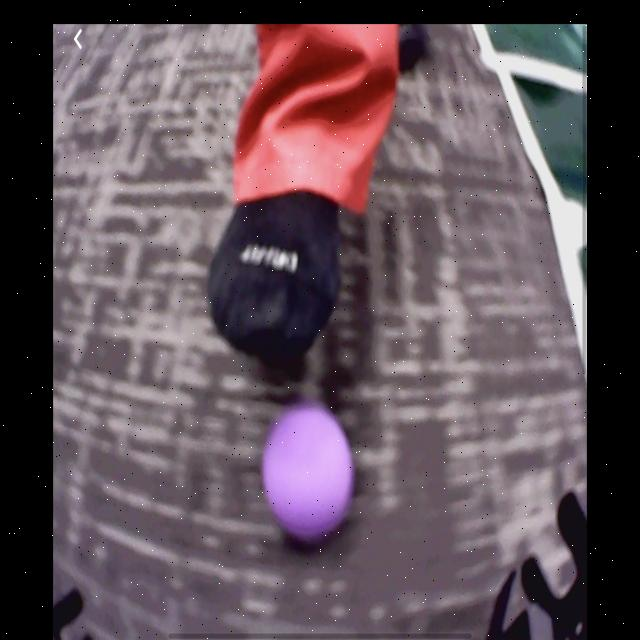ball: (264, 400, 356, 540)
